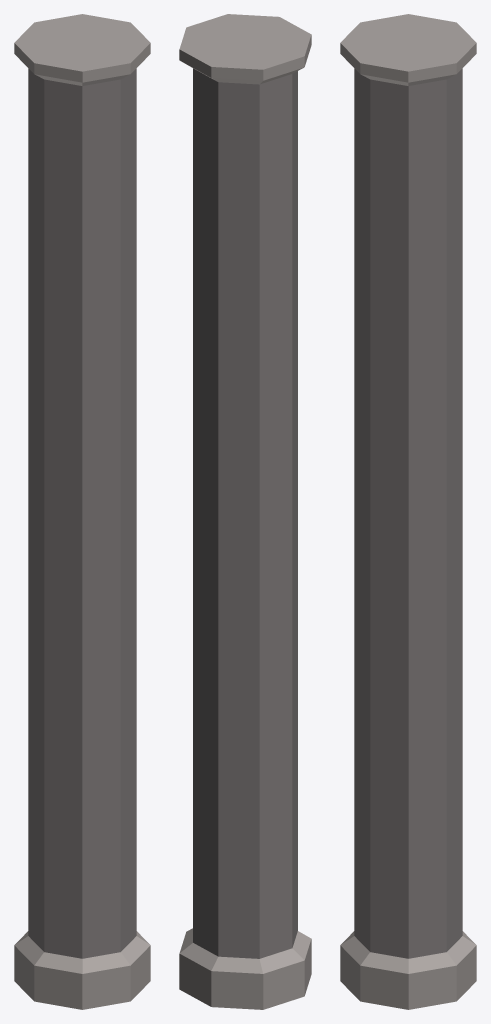
File: dungeon-pillar-stone-round-tall.glb
The picture shows the model from 3 angles, left to right: view 1: azimuth 90°, elevation 25°; view 2: azimuth 150°, elevation 25°; view 3: azimuth 270°, elevation 25°; orthographic projection.
Parts seen in each view (by area): view 1: dungeon-pillar-stone-round-tall; view 2: dungeon-pillar-stone-round-tall; view 3: dungeon-pillar-stone-round-tall.
Part boxes in pixels (x1=…): dungeon-pillar-stone-round-tall: x1=14, y1=14, x2=150, y2=1009; dungeon-pillar-stone-round-tall: x1=179, y1=14, x2=311, y2=1009; dungeon-pillar-stone-round-tall: x1=340, y1=14, x2=476, y2=1009.
Bounding box in the file's own units: 1.2 × 9.11 × 1.2.
1 material, 1 textured.
